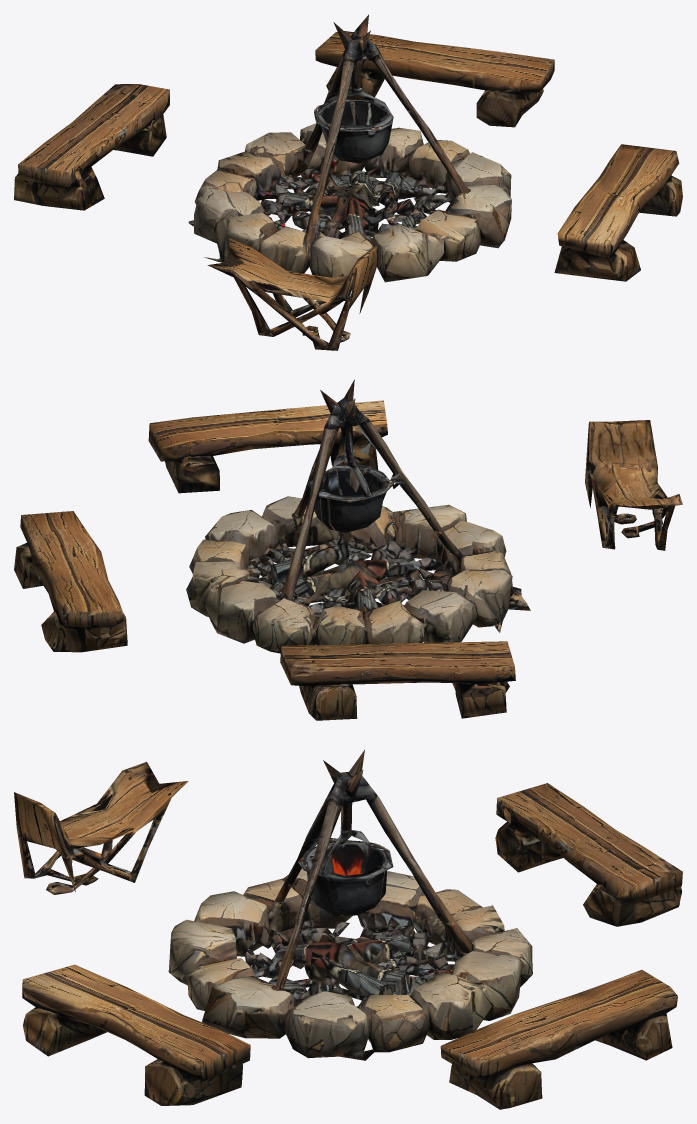
Rendered from EX_Camp_Campfire.fbx.
3 views of the same model, one above another, from view 1: azimuth 30°, elevation 25°; view 2: azimuth 150°, elevation 25°; view 3: azimuth 270°, elevation 25° (orthographic). The views are drawn at different scales.
Visible parts, largest first — view 1: texture_mapping; view 2: texture_mapping; view 3: texture_mapping.
Boxes of the visible parts, box(x1,y1,x2,y2) form: texture_mapping: box(14, 14, 682, 350); texture_mapping: box(14, 379, 682, 720); texture_mapping: box(14, 750, 682, 1109).
Bounding box in the file's own units: 0.9436 × 0.9456 × 0.3659.
Materials: 1 (1 with a texture image).
